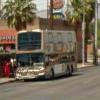Bus: (13, 26, 80, 83)
